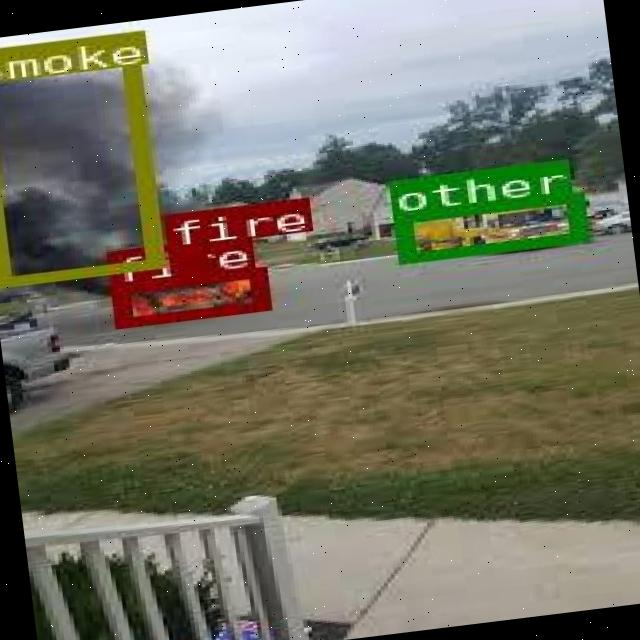fire: (110, 267, 264, 326), (167, 244, 204, 272)
smoke: (0, 31, 158, 285)
